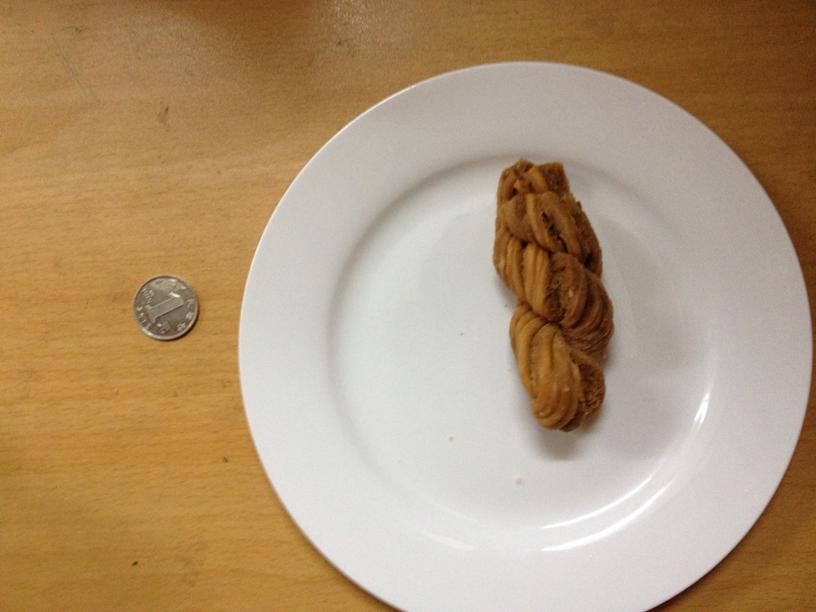coin: (134, 275, 198, 341)
fired_dough_twist: (489, 154, 615, 430)
